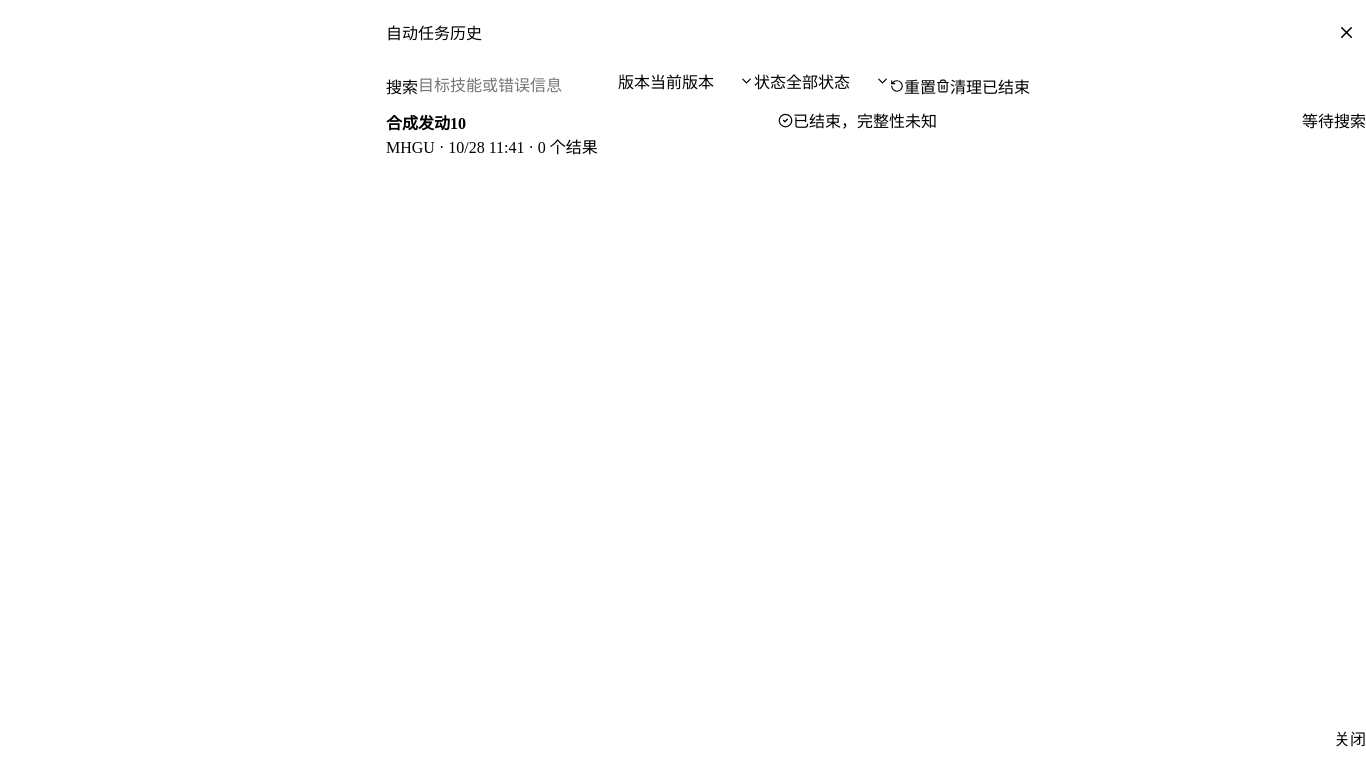
Test: copy historical conditions into an editable new form › preserves the existing form when source equipment cannot be rehydrated
The image size is (1366, 768).
Click the button "合成发动10 MHGU · 10/28 11:41 · 0 个结果 已结束，完整性未知 等待搜索" at (426, 124), box [386,98,1365,170]
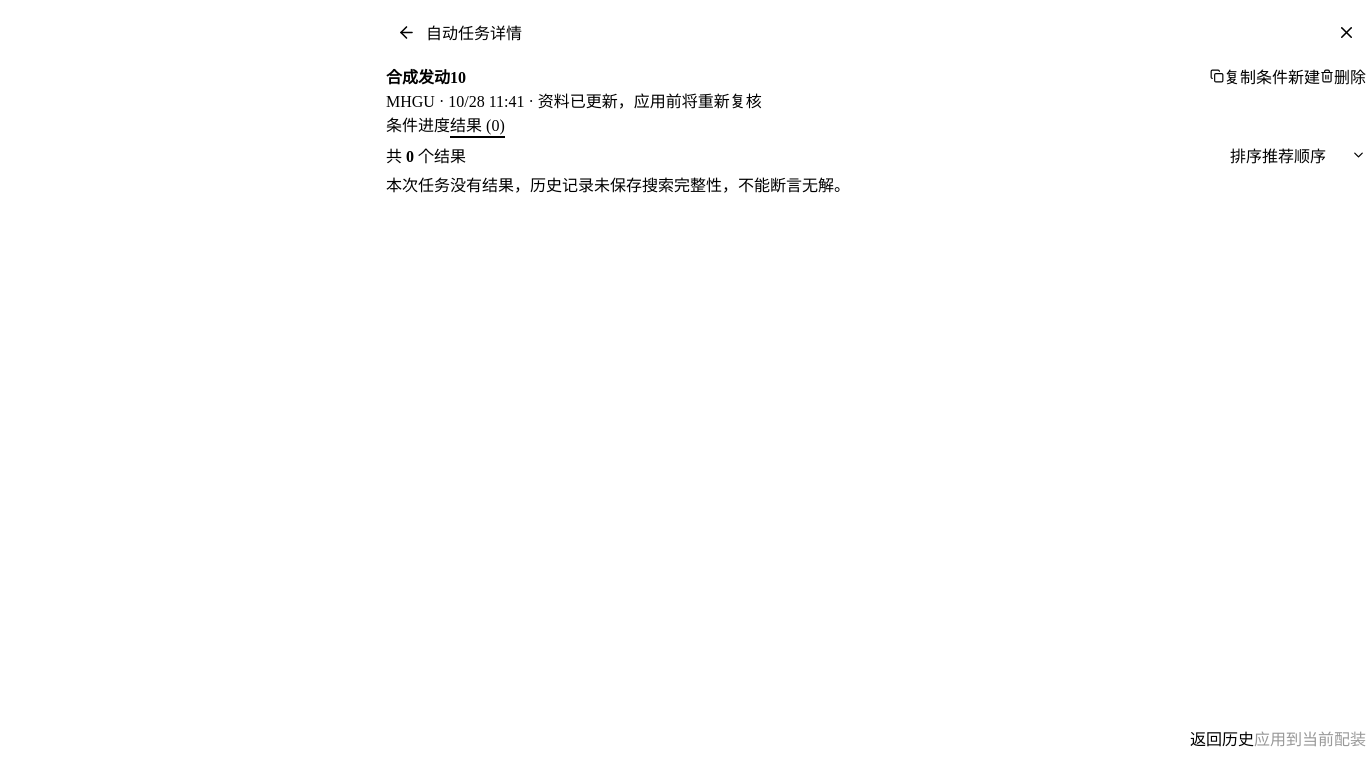
Expected: the dialog "自动任务详情" is shown
Click the button "复制条件新建" at (1265, 76), box [1210,64,1320,88]
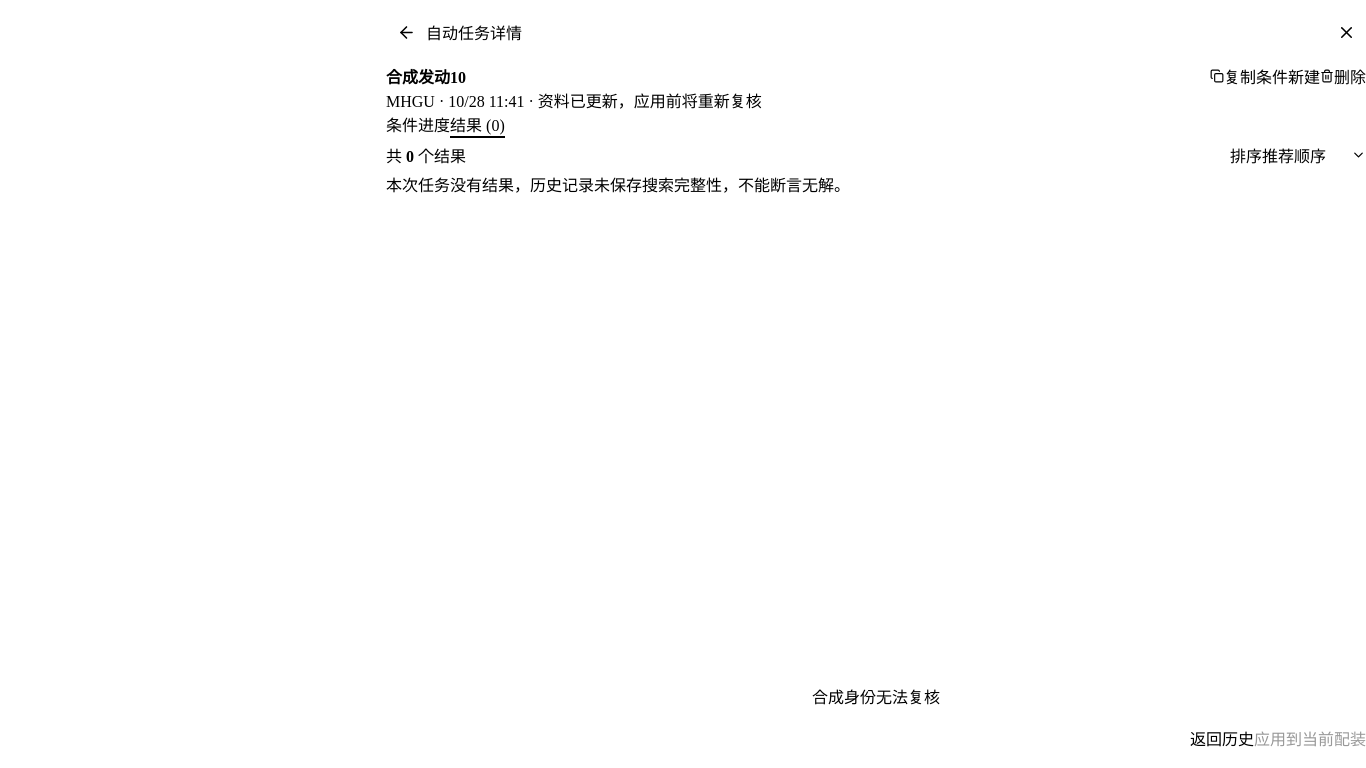
Expected: the message reads "合成身份无法复核", [812,689,940,706]
